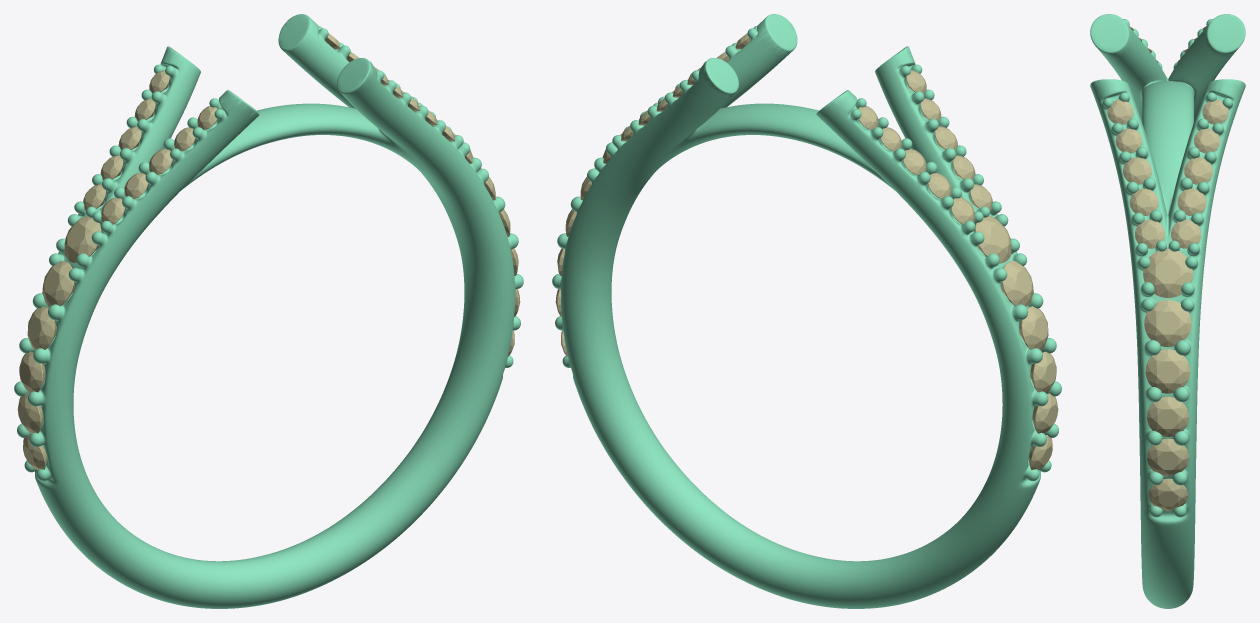
3 views of the same model, side by side, from view 1: azimuth 30°, elevation 25°; view 2: azimuth 150°, elevation 25°; view 3: azimuth 270°, elevation 25° (orthographic).
Visible parts, largest first — view 1: Metal02, Diamond_Gem.017, Diamond_Gem.018, Diamond_Gem.019, Diamond_Gem.021, Diamond_Gem.020; view 2: Metal02, Diamond_Gem.017, Diamond_Gem.018, Diamond_Gem.019, Diamond_Gem.021, Diamond_Gem.020; view 3: Metal02, Diamond_Gem.014, Diamond_Gem.013, Diamond_Gem.012, Diamond_Gem.010, Diamond_Gem.011, Diamond_Gem.009, Diamond_Gem.003, Diamond_Gem.004, Diamond_Gem, Diamond_Gem.008, Diamond_Gem.005 (+5 smaller).
Part boxes in pixels (bbox=[...]): Metal02: bbox=[14, 14, 523, 608]; Diamond_Gem.017: bbox=[64, 216, 101, 263]; Diamond_Gem.018: bbox=[42, 261, 74, 306]; Diamond_Gem.019: bbox=[27, 306, 56, 350]; Diamond_Gem.021: bbox=[19, 351, 45, 393]; Diamond_Gem.020: bbox=[17, 393, 43, 433]; Metal02: bbox=[552, 14, 1061, 608]; Diamond_Gem.017: bbox=[975, 216, 1011, 263]; Diamond_Gem.018: bbox=[1001, 261, 1033, 306]; Diamond_Gem.019: bbox=[1019, 306, 1048, 350]; Diamond_Gem.021: bbox=[1030, 351, 1056, 393]; Diamond_Gem.020: bbox=[1032, 393, 1058, 433]; Metal02: bbox=[1090, 14, 1245, 608]; Diamond_Gem.014: bbox=[1143, 248, 1192, 297]; Diamond_Gem.013: bbox=[1144, 300, 1191, 347]; Diamond_Gem.012: bbox=[1145, 349, 1190, 393]; Diamond_Gem.010: bbox=[1147, 396, 1188, 436]; Diamond_Gem.011: bbox=[1147, 438, 1188, 476]; Diamond_Gem.009: bbox=[1148, 478, 1187, 510]; Diamond_Gem.003: bbox=[1171, 219, 1201, 248]; Diamond_Gem.004: bbox=[1135, 219, 1164, 248]; Diamond_Gem: bbox=[1177, 188, 1206, 215]; Diamond_Gem.008: bbox=[1129, 188, 1158, 215]; Diamond_Gem.005: bbox=[1123, 157, 1151, 184].
Size of the model in its own units: 21.31 by 22.52 by 5.91.
